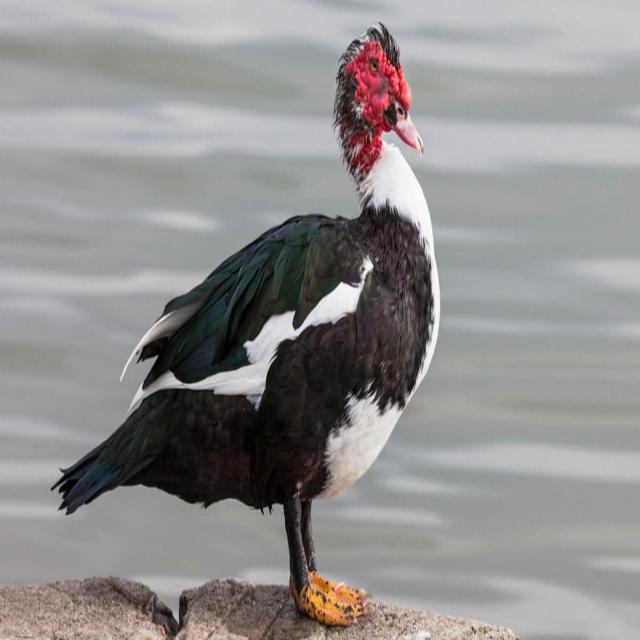Duck: (42, 21, 462, 627)
